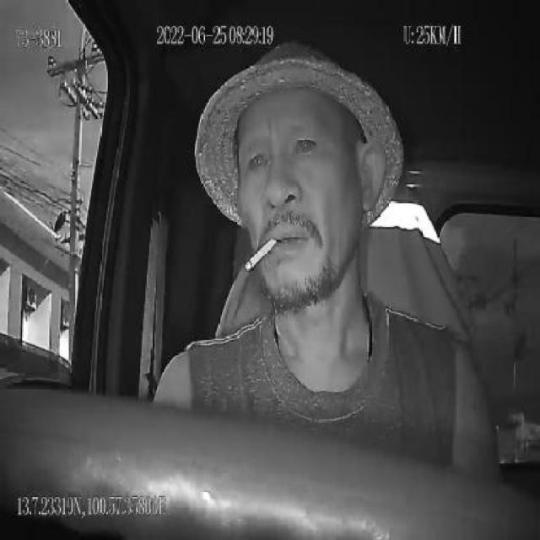smoking: (245, 236, 276, 274)
